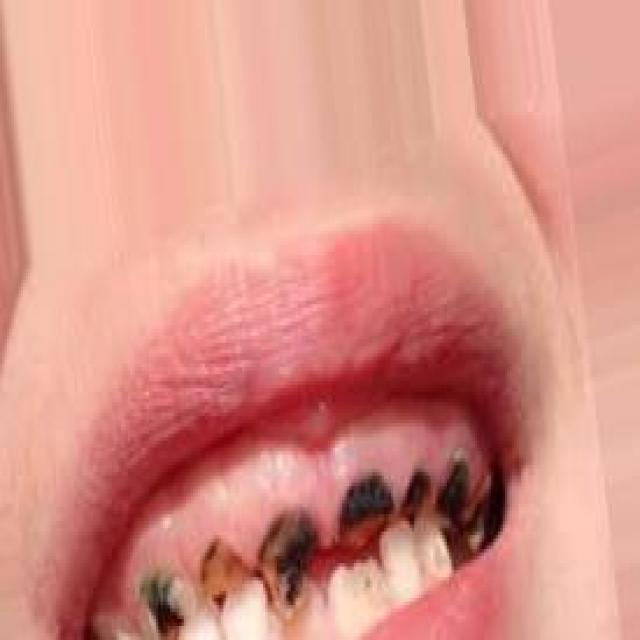caries: (258, 500, 318, 620), (328, 460, 396, 555), (197, 530, 253, 630), (132, 557, 196, 640), (435, 437, 478, 530), (398, 460, 432, 534)
